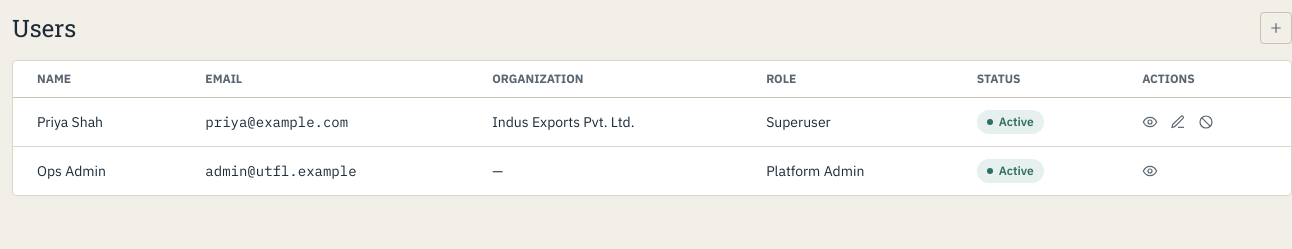
AdminUsersPage › deactivating a user › clears a stale error banner once a later action succeeds
Expected: the text "Priya Shah" is shown, [13, 98, 181, 146]
Click the button named "deactivate priya shah" at (1206,122), box [1198, 114, 1214, 130]
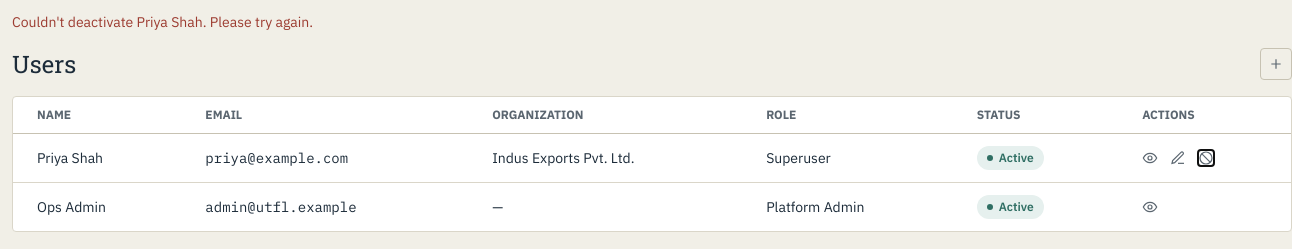
Expected: the text "Couldn't deactivate Priya Shah. Please try again." is shown, [12, 13, 313, 31]
Click the button named "deactivate priya shah" at (1206,158), box [1198, 150, 1214, 166]
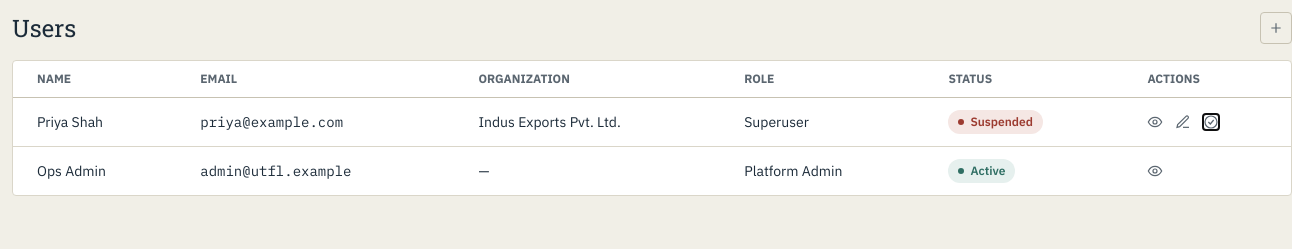
Expected: the button named "reactivate priya shah" is shown, [1203, 114, 1219, 130]
Expected: the text "Couldn't deactivate Priya Shah" is gone
